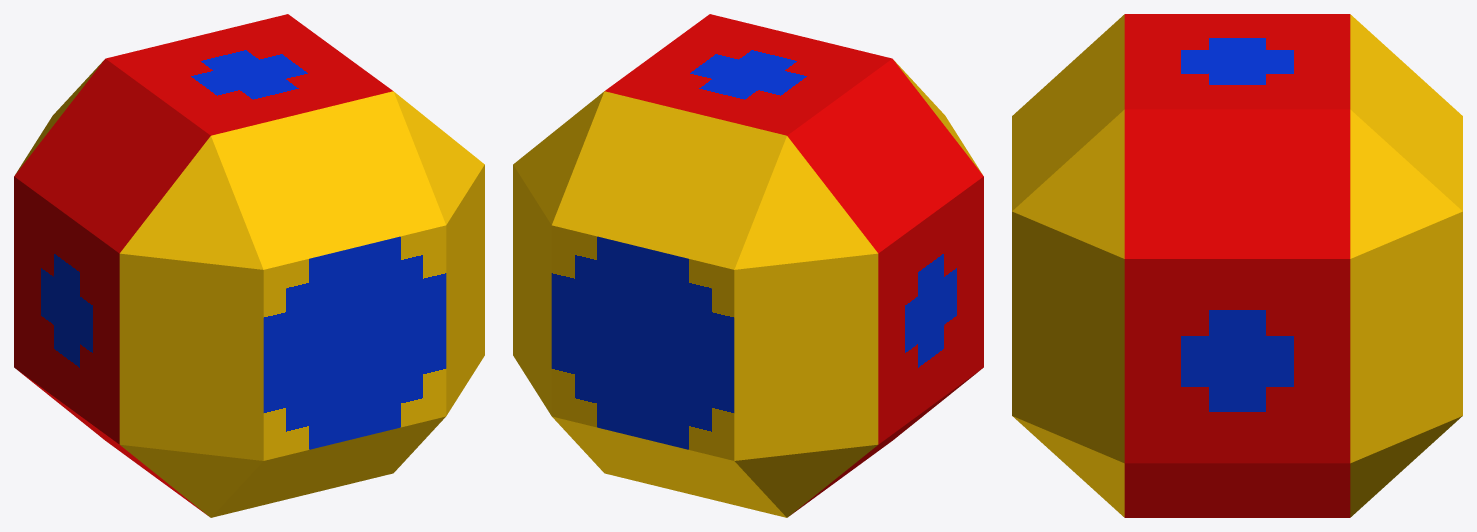
The model's file is circus-ball.gltf.
3 views of the same model, side by side, from view 1: azimuth 30°, elevation 25°; view 2: azimuth 150°, elevation 25°; view 3: azimuth 270°, elevation 25° (orthographic). The views are drawn at different scales.
Visible parts, largest first — view 1: beveled_cuboid; view 2: beveled_cuboid; view 3: beveled_cuboid.
Part boxes in pixels (x1,y1,x2,y2): beveled_cuboid: (14,14,484,517); beveled_cuboid: (513,14,983,517); beveled_cuboid: (1012,14,1462,517).
Bounding box in the file's own units: 1 × 1 × 1.
Materials: 1 (1 with a texture image).
